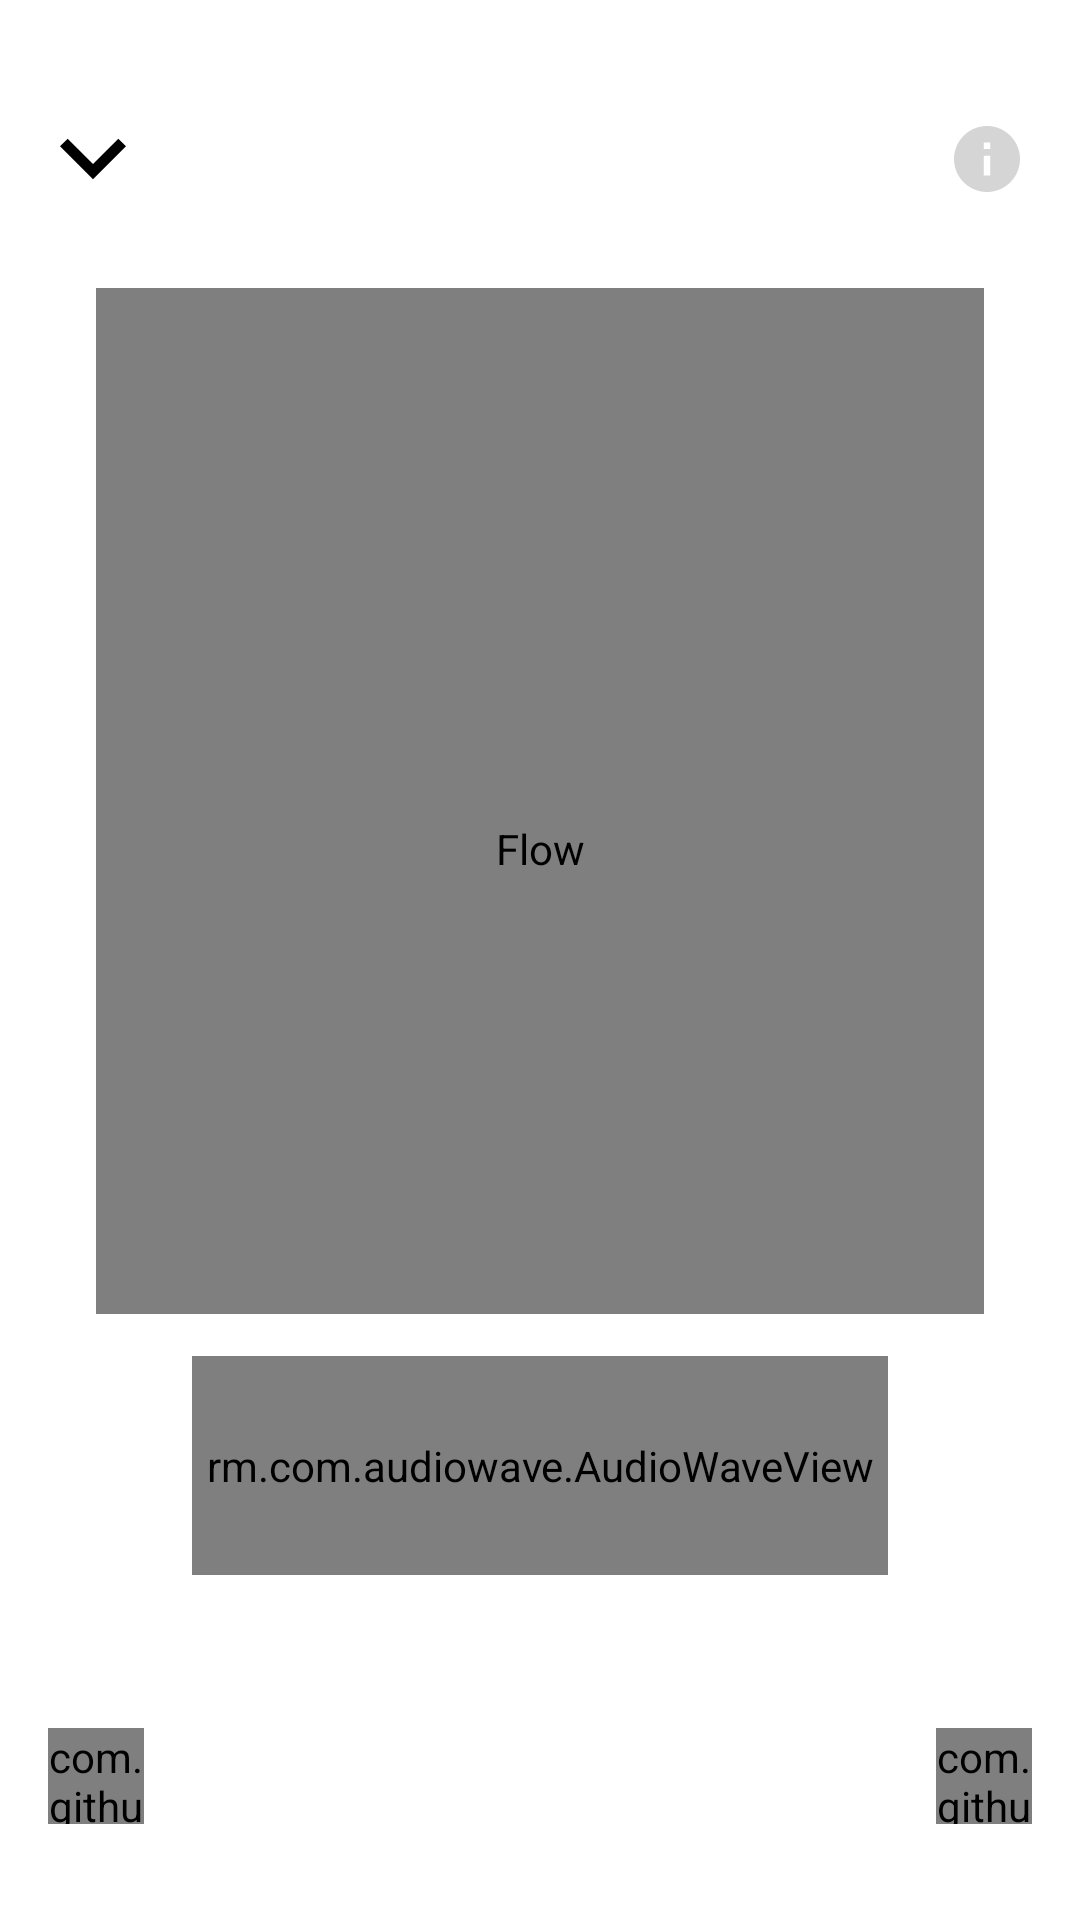

Icons on this 1080 × 1920 Android screen, each with its box as detection(x1, y1, x2, y2):
down arrow key: detection(60, 139, 126, 179)
info: detection(954, 126, 1020, 192)
